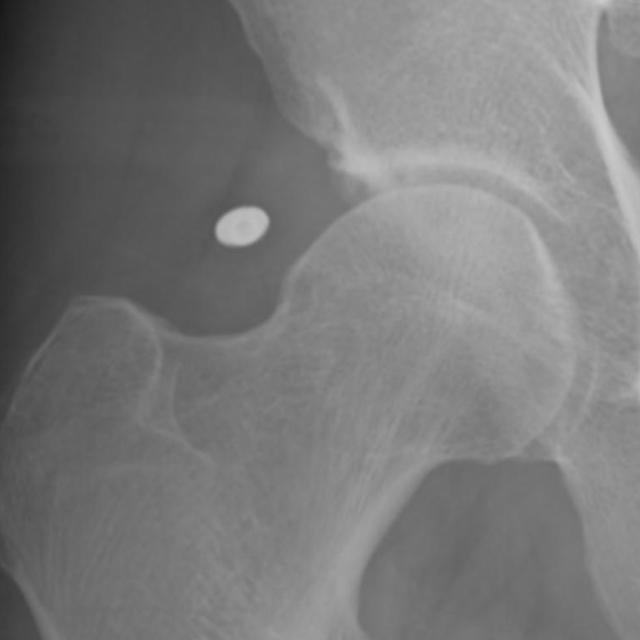Fitted_femural_head: (295, 184, 432, 295)
